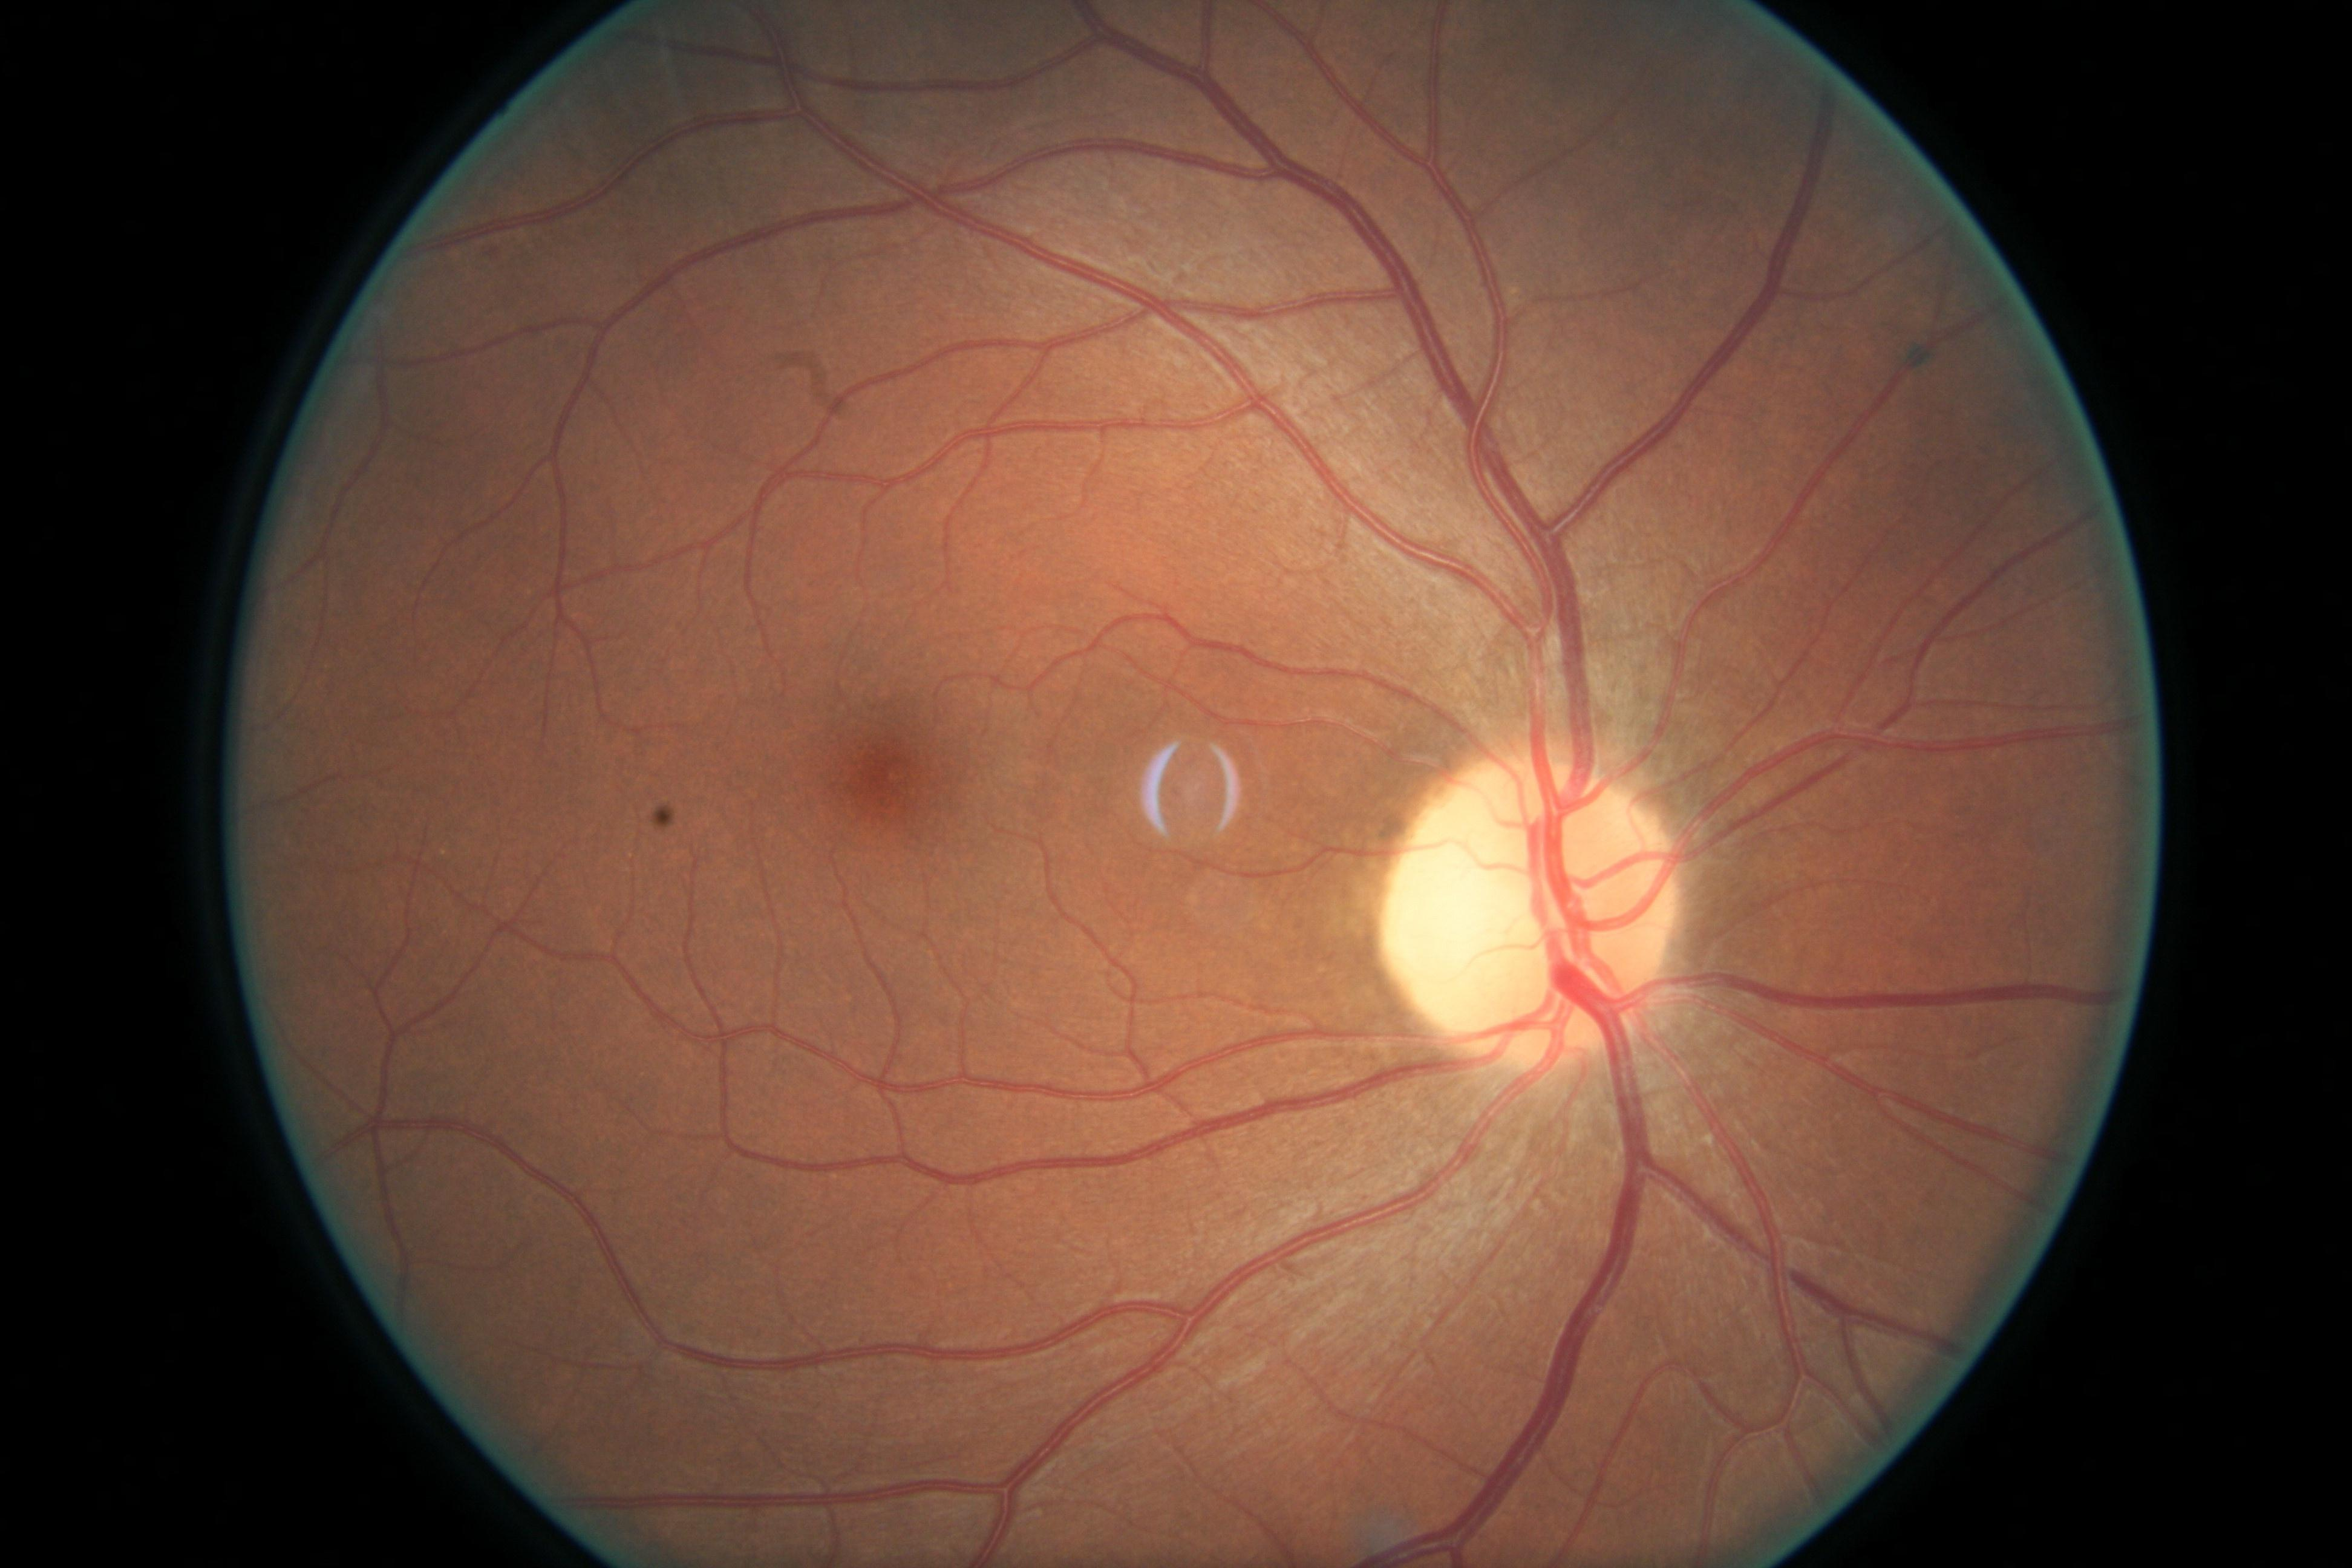Optic-nerve: (1377, 751, 1687, 1085)
macula: (817, 709, 943, 859)
